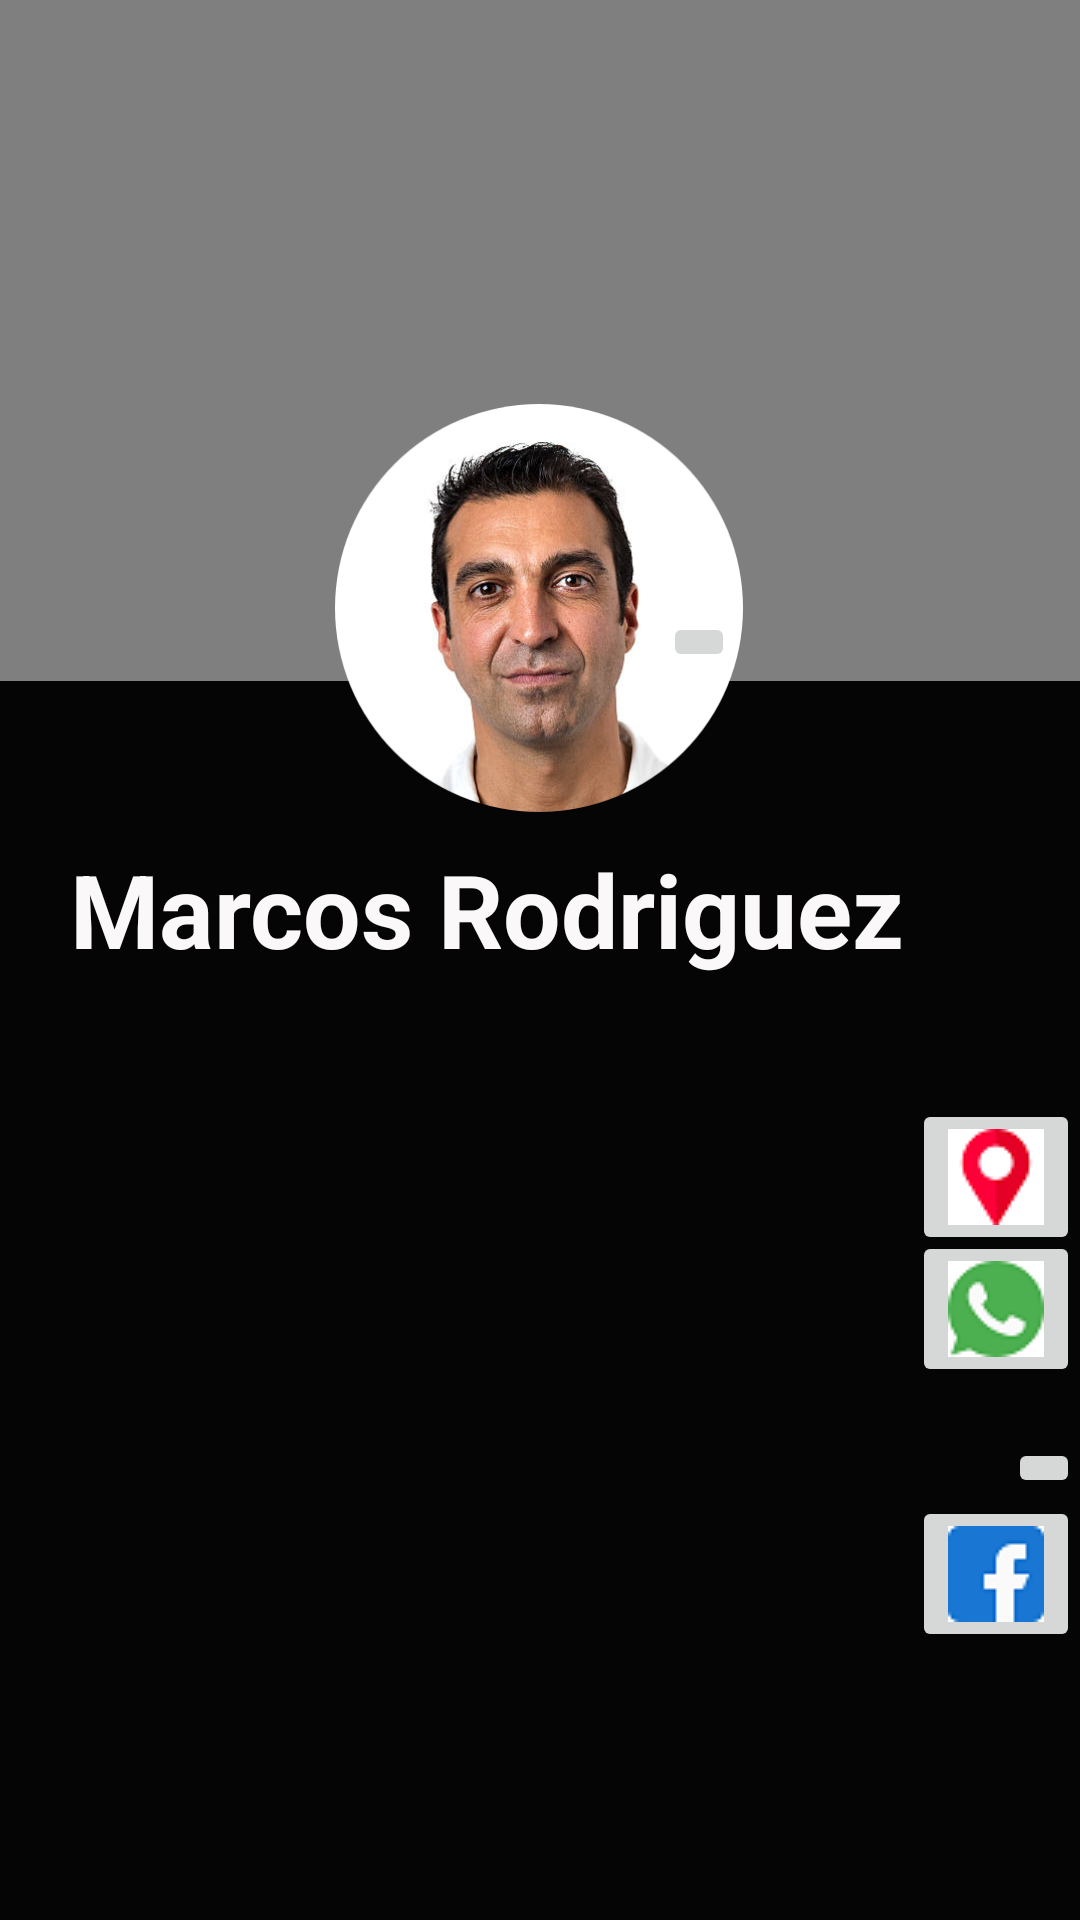

Point at icon controls on the screen. Image size 1080px×1920px, points as (x=x, y=y).
ubicacion: (x=996, y=1177)
